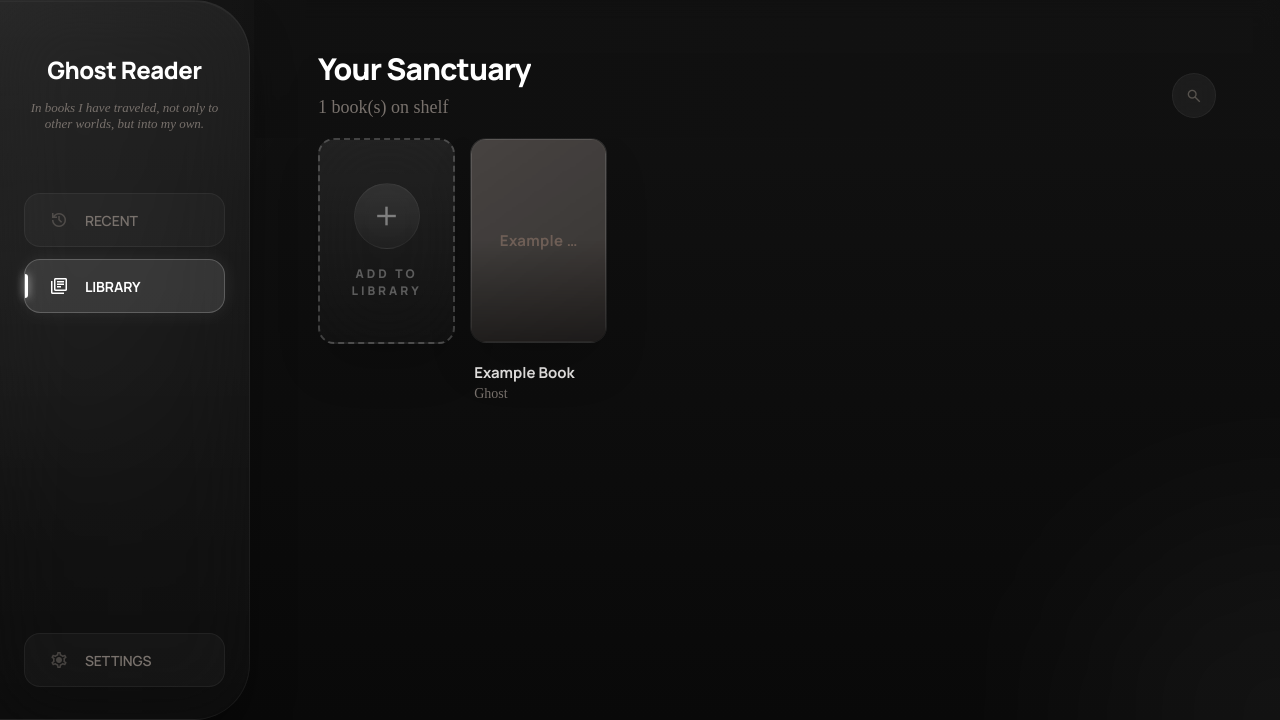
Test: App single-window shell › switches from bookshelf to reader inside the same window
Expected: the button with aria-label "Open library view" is shown, [24, 259, 225, 313]
Click the button "Example Book Ghost": (539, 383) [470, 363, 607, 402]
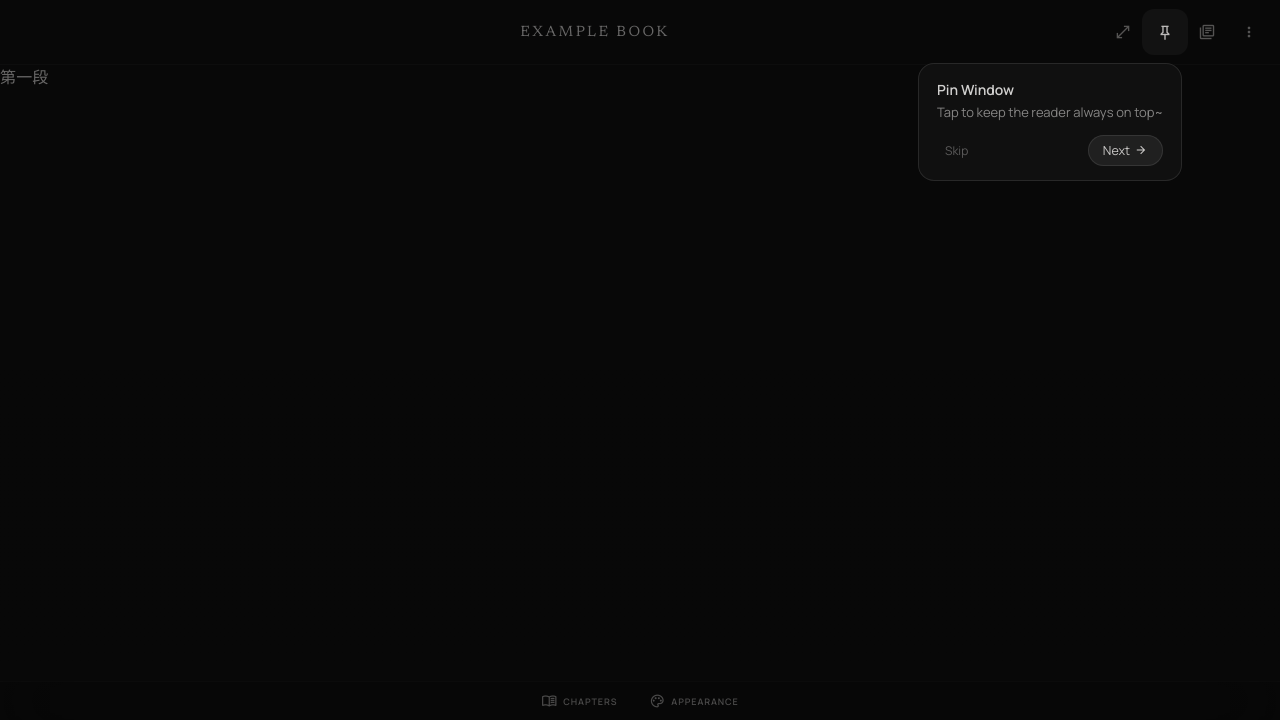
Expected: the text with class "app-frame__title" reads "Example Book", [520, 24, 670, 40]
Expected: the text "第一段" is shown, [0, 71, 48, 87]
